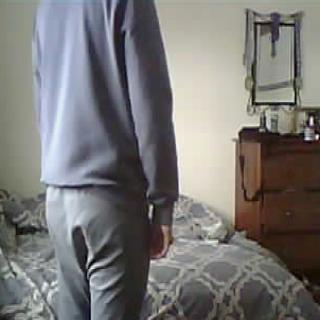Blue Hoodie: (29, 0, 174, 190)
Blue Sweatpants: (43, 189, 151, 320)
